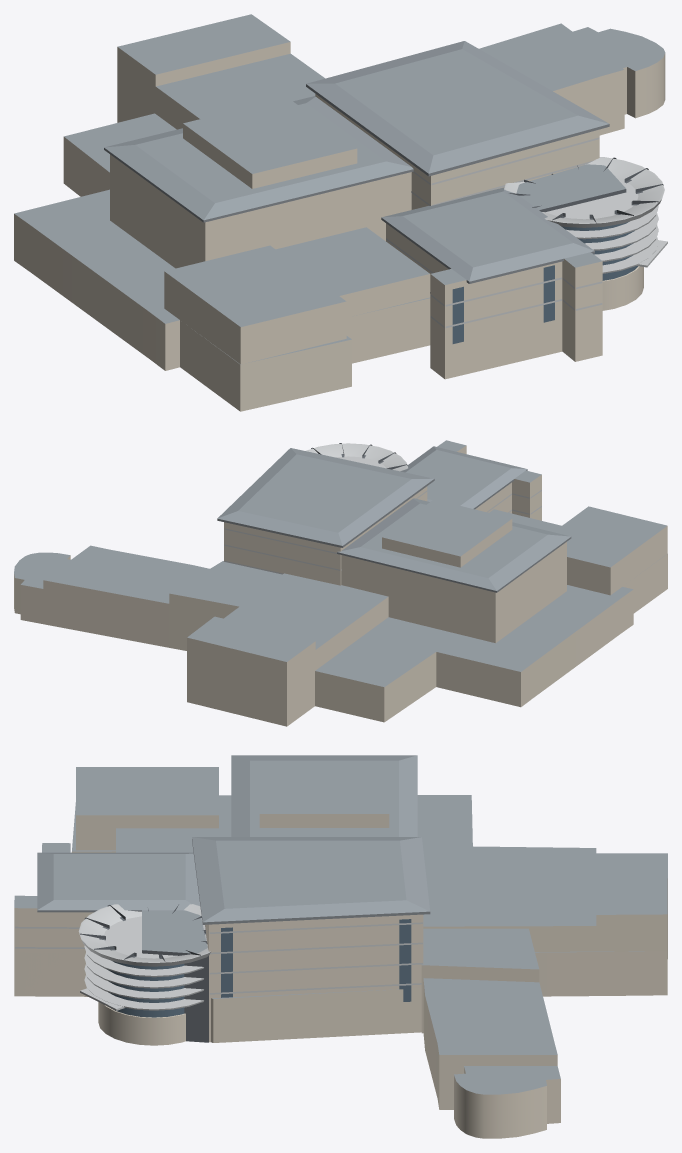
File: indy-newfields.glb
3 views of the same model, one above another, from view 1: azimuth 30°, elevation 25°; view 2: azimuth 150°, elevation 25°; view 3: azimuth 270°, elevation 25° (orthographic). The views are drawn at different scales.
Parts seen in each view (by area): view 1: Newfields (Indianapolis Museum of Art); view 2: Newfields (Indianapolis Museum of Art); view 3: Newfields (Indianapolis Museum of Art).
Boxes of the visible parts, left/top/right/bottom form: Newfields (Indianapolis Museum of Art): left=14, top=14, right=667, bottom=411; Newfields (Indianapolis Museum of Art): left=14, top=440, right=667, bottom=726; Newfields (Indianapolis Museum of Art): left=14, top=755, right=667, bottom=1138.
Bounding box in the file's own units: 175 × 35.4 × 161.
